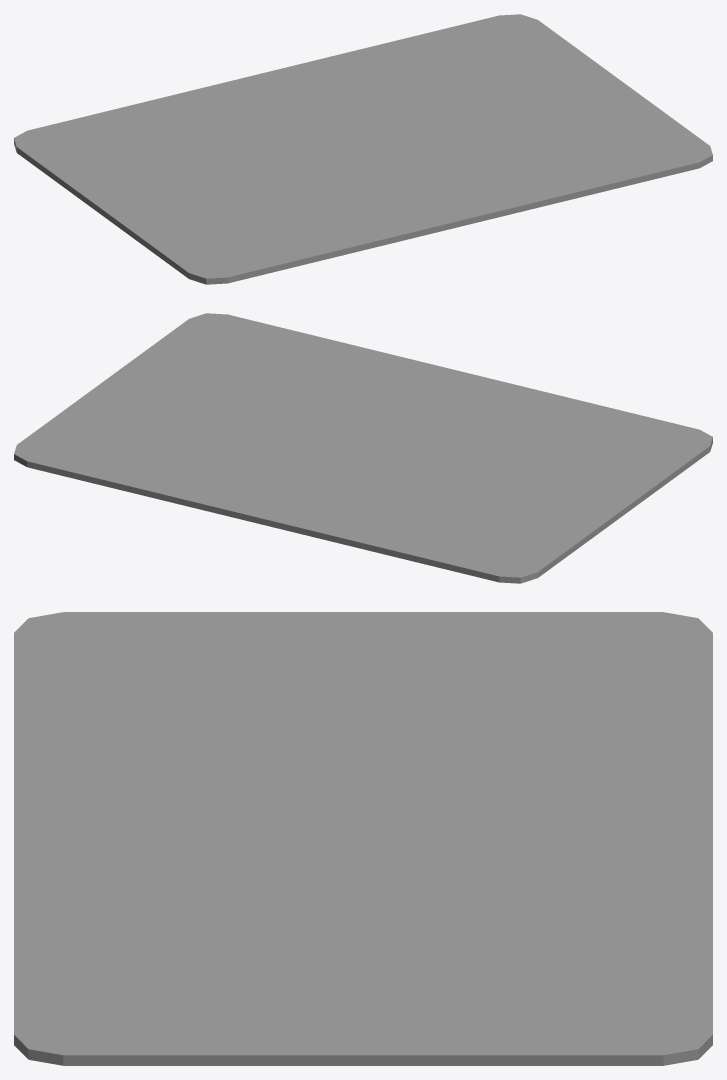
Rendered from Carpet1_C2.fbx.
3 views of the same model, one above another, from view 1: azimuth 30°, elevation 25°; view 2: azimuth 150°, elevation 25°; view 3: azimuth 270°, elevation 25° (orthographic). The views are drawn at different scales.
Parts seen in each view (by area): view 1: Carpet1_C2; view 2: Carpet1_C2; view 3: Carpet1_C2.
Part boxes in pixels (<box>): Carpet1_C2: <box>14,14,712,284</box>; Carpet1_C2: <box>14,313,712,583</box>; Carpet1_C2: <box>14,612,712,1065</box>.
Bounding box in the file's own units: 90 × 1 × 60.
